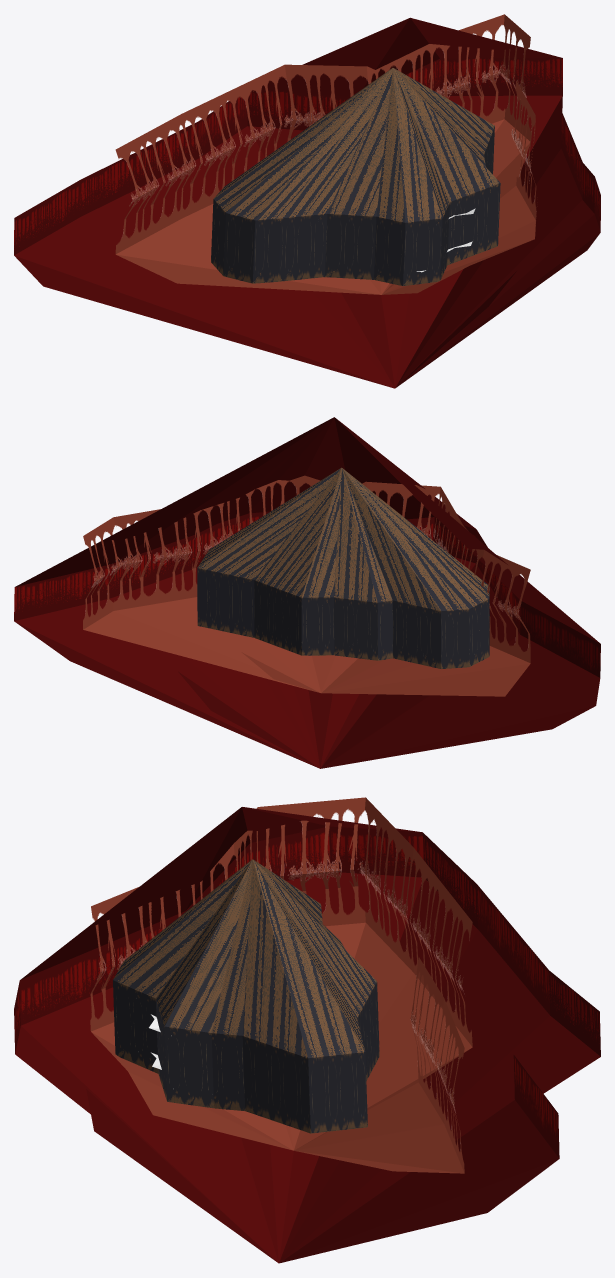
Rendered from ps1-style-creepy-forest-environment.glb.
3 renders of one model, top to bottom at view 1: azimuth 30°, elevation 25°; view 2: azimuth 150°, elevation 25°; view 3: azimuth 270°, elevation 25°, orthographic. The views are drawn at different scales.
Visible parts, largest first — view 1: trees far, black trees far, brown trees; view 2: trees far, black trees far, brown trees; view 3: trees far, black trees far, brown trees.
Boxes of the visible parts, bbox=[...] form: trees far: bbox=[14, 17, 600, 388]; black trees far: bbox=[211, 68, 500, 285]; brown trees: bbox=[115, 14, 537, 294]; trees far: bbox=[14, 417, 600, 768]; black trees far: bbox=[197, 467, 489, 668]; brown trees: bbox=[83, 475, 530, 696]; trees far: bbox=[14, 807, 600, 1263]; black trees far: bbox=[113, 859, 379, 1133]; brown trees: bbox=[90, 797, 472, 1173].
Bounding box in the file's own units: 35.02 × 21.85 × 25.46.
6 materials, 5 textured.
